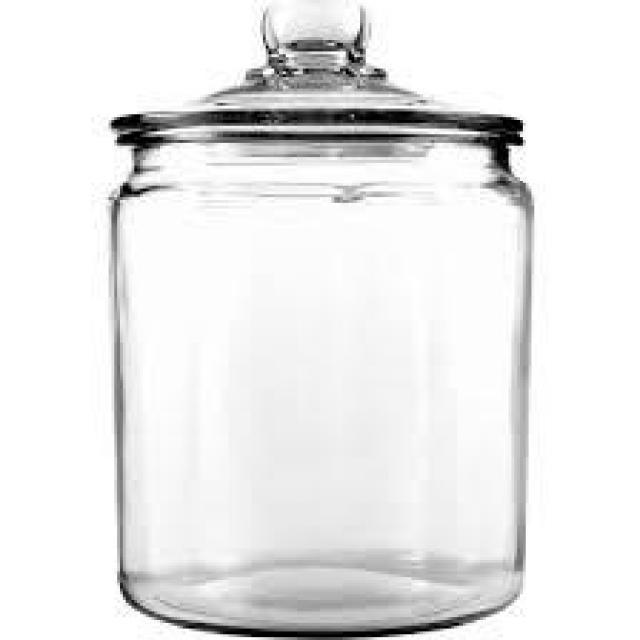glass: (106, 0, 543, 640)
